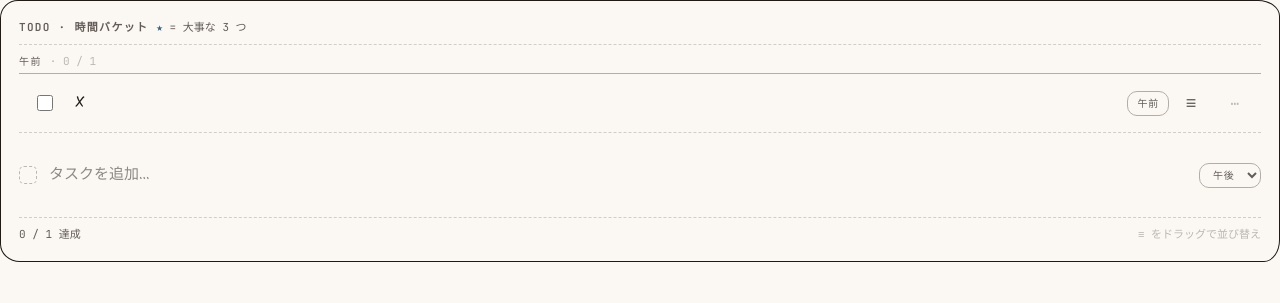
Test: TodoCard › toggle 失敗時はチェック状態が rollback され alert が出る
Click the checkbox named "X" at (45, 103), box [37,95,53,111]
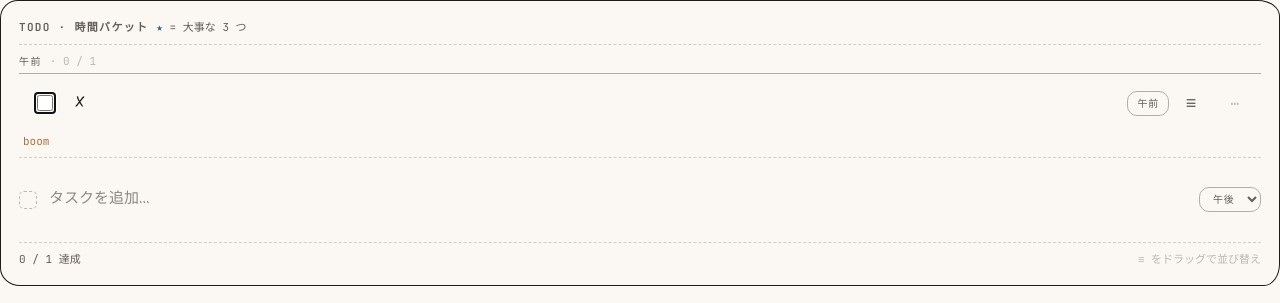
Expected: the message reads "boom", [23,134,49,148]
